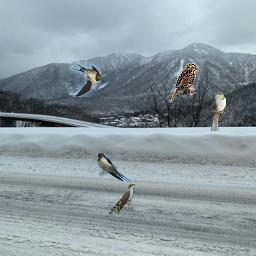Cuckoo: (109, 184, 135, 214), (210, 91, 226, 131)
Sparrow: (169, 63, 199, 103)
Swallow: (69, 62, 101, 97), (97, 153, 131, 182)
